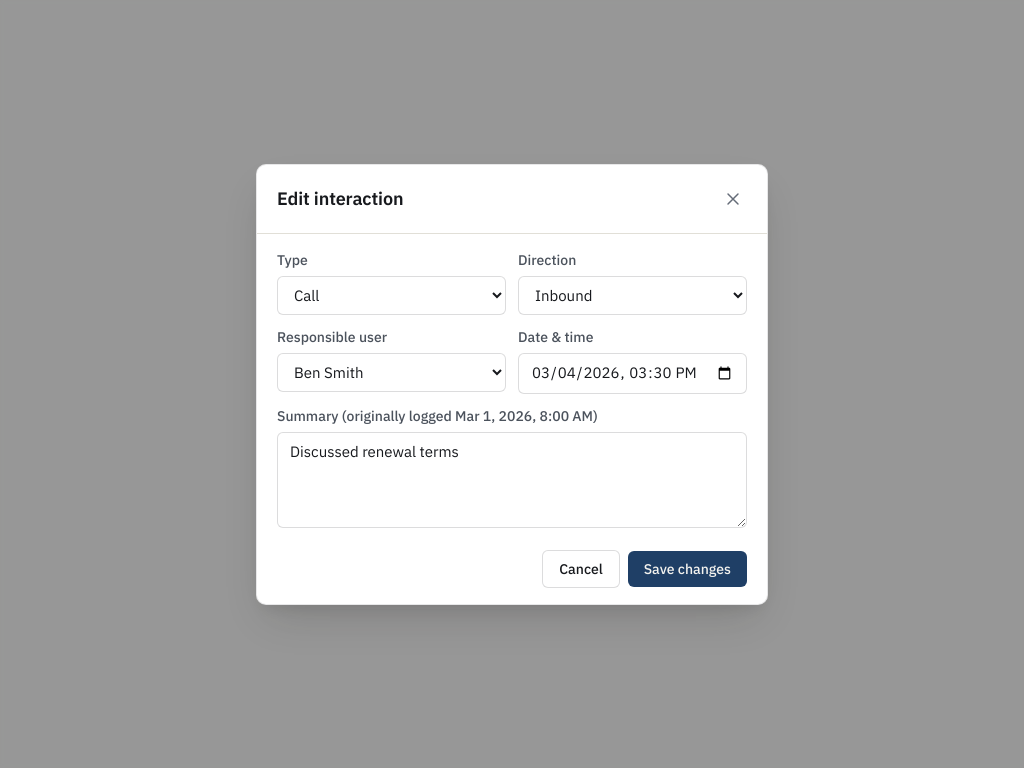
Test: InteractionFormModal › submission › falls back to a generic message for non-Error failures
Click the button "Save changes". click: (687, 568)
box: [628, 550, 747, 586]
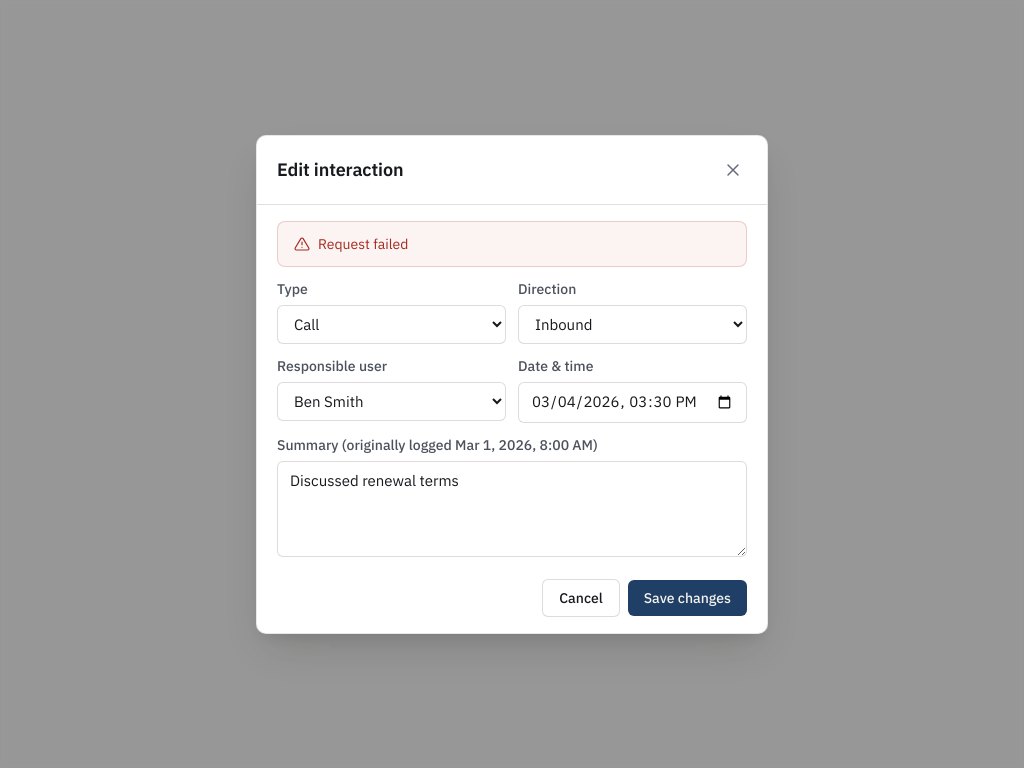
Check: the text "Request failed" is shown, box [318, 234, 408, 254]
